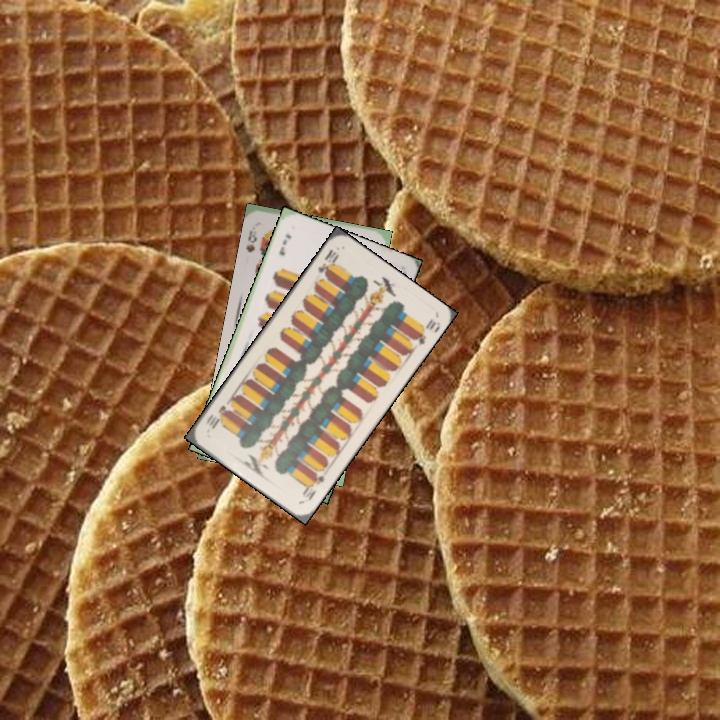E10: (298, 469, 327, 505), (314, 245, 342, 279)
E7: (275, 230, 294, 258)
S8: (242, 226, 259, 255)
